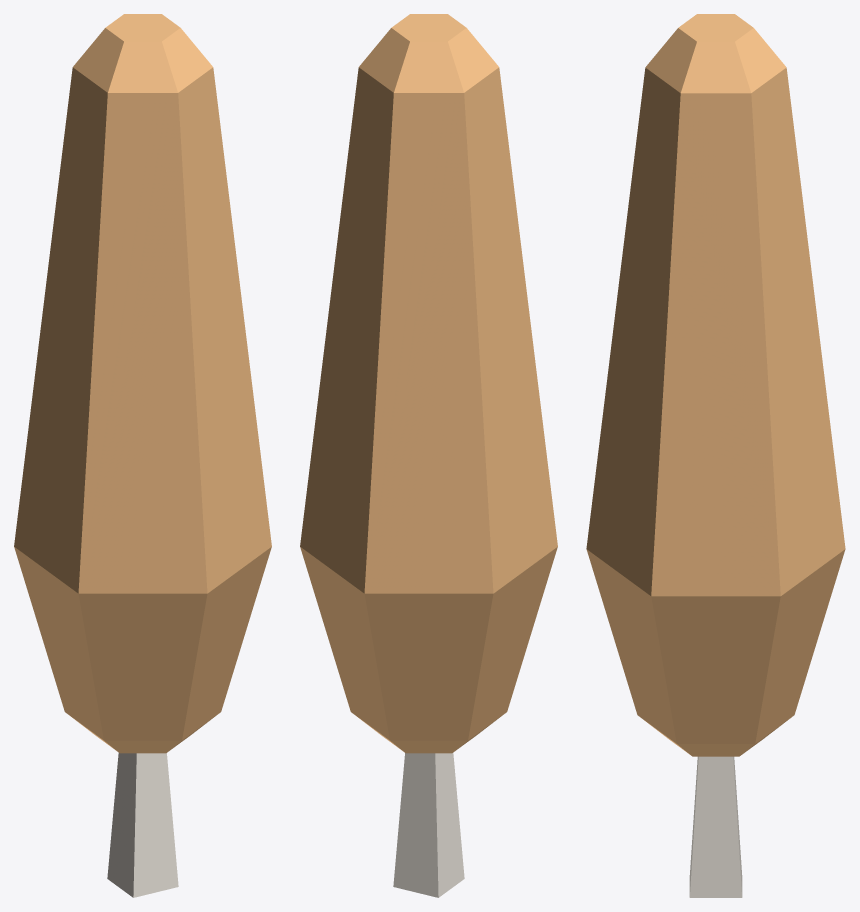
The model's file is tree_tall_fall.glb.
3 views of the same model, side by side, from view 1: azimuth 30°, elevation 25°; view 2: azimuth 150°, elevation 25°; view 3: azimuth 270°, elevation 25° (orthographic).
Parts seen in each view (by area): view 1: tree_tall_fall; view 2: tree_tall_fall; view 3: tree_tall_fall.
Part boxes in pixels (<box>): tree_tall_fall: <box>14,14,271,897</box>; tree_tall_fall: <box>300,14,557,897</box>; tree_tall_fall: <box>586,14,845,897</box>.
Size of the model in its own units: 0.3996 by 1.69 by 0.4614.
